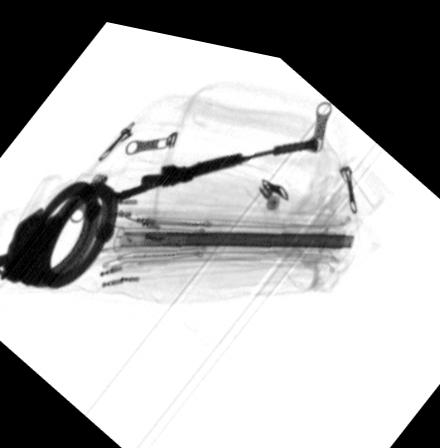Gun: (104, 121, 318, 207)
HandCuffs: (0, 175, 123, 289)
